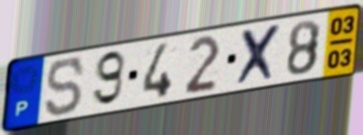2: (184, 33, 224, 97)
4: (141, 40, 176, 100)
8: (286, 19, 323, 78)
9: (89, 50, 128, 110)
S: (44, 55, 87, 119)
X: (234, 21, 286, 89)
